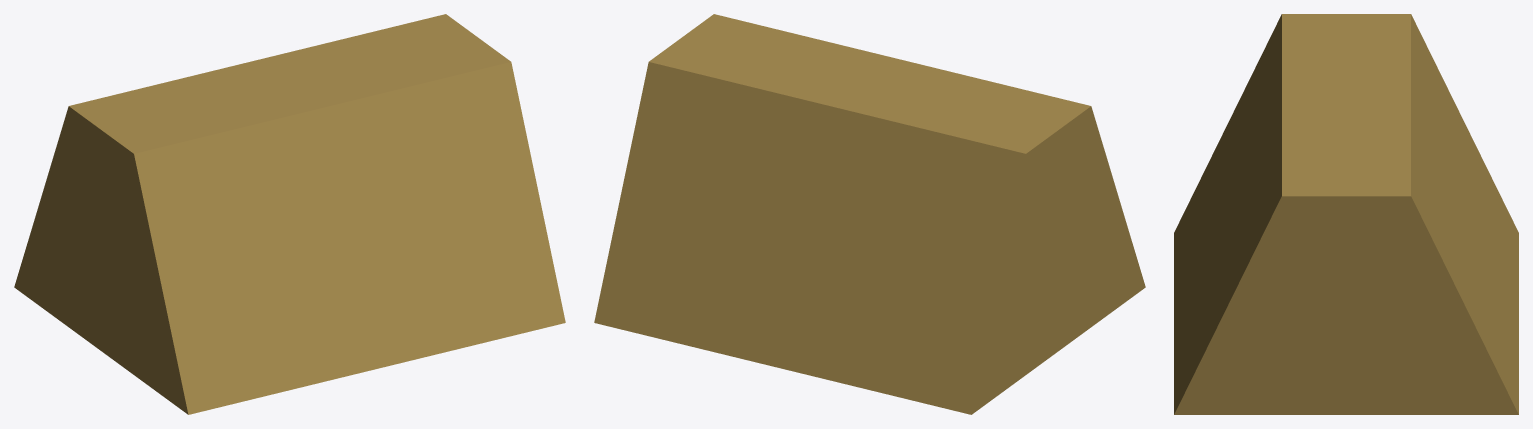
File: VergeRidge.fbx
3 renders of one model, left to right at view 1: azimuth 30°, elevation 25°; view 2: azimuth 150°, elevation 25°; view 3: azimuth 270°, elevation 25°, orthographic.
Parts seen in each view (by area): view 1: Kit_VergeRidge; view 2: Kit_VergeRidge; view 3: Kit_VergeRidge.
Part boxes in pixels (left/top/right/bottom): Kit_VergeRidge: left=14, top=14, right=565, bottom=414; Kit_VergeRidge: left=594, top=14, right=1145, bottom=414; Kit_VergeRidge: left=1174, top=14, right=1518, bottom=414.
Bounding box in the file's own units: 0.4 × 0.2241 × 0.32.
